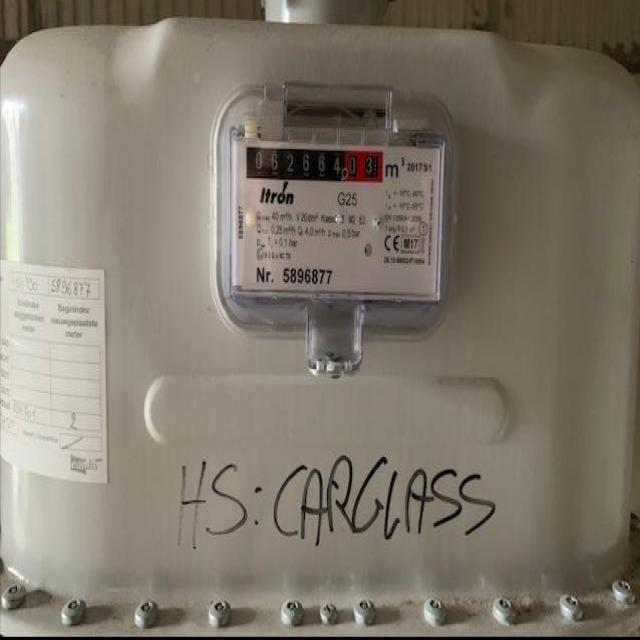gaz_meter: (233, 136, 438, 297)
indication: (245, 144, 385, 182)
